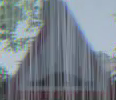Speed Breaker ahead: (14, 5, 98, 88)
